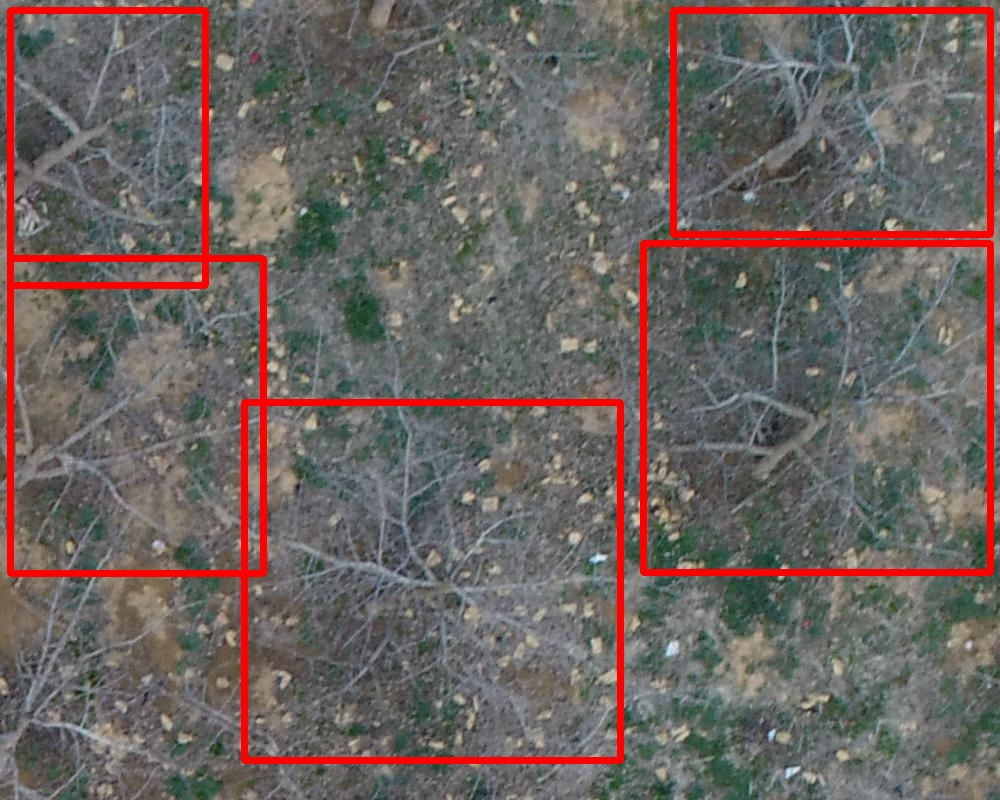apple: (244, 402, 620, 760), (643, 243, 990, 572), (10, 258, 263, 573), (673, 10, 990, 234), (10, 10, 205, 285)
